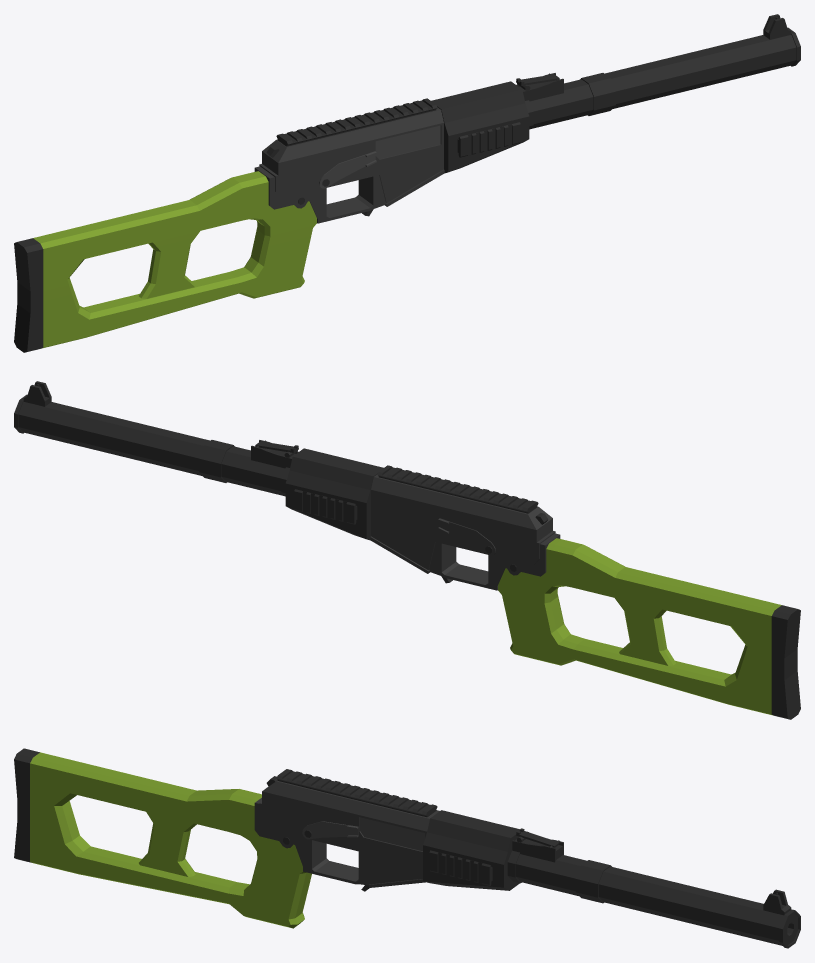
The model's file is SniperRifle6_01.fbx.
The picture shows the model from 3 angles, top to bottom: view 1: azimuth 30°, elevation 25°; view 2: azimuth 150°, elevation 25°; view 3: azimuth 330°, elevation 25°; orthographic projection.
Visible parts, largest first — view 1: SniperRifle6_01; view 2: SniperRifle6_01; view 3: SniperRifle6_01.
Part boxes in pixels (box(x1,y1,x2,y2)): SniperRifle6_01: box(14, 14, 800, 352); SniperRifle6_01: box(14, 381, 800, 719); SniperRifle6_01: box(14, 748, 800, 948).
Size of the model in its own units: 0.9508 by 0.1767 by 0.0662.
